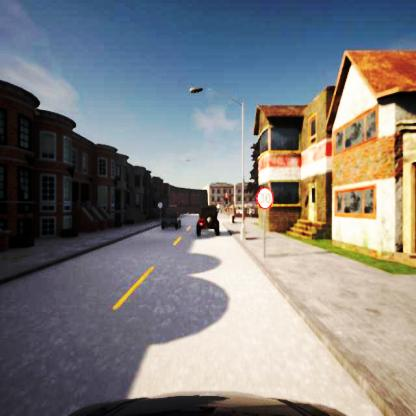vehicle: (197, 206, 220, 238), (161, 209, 180, 230)
